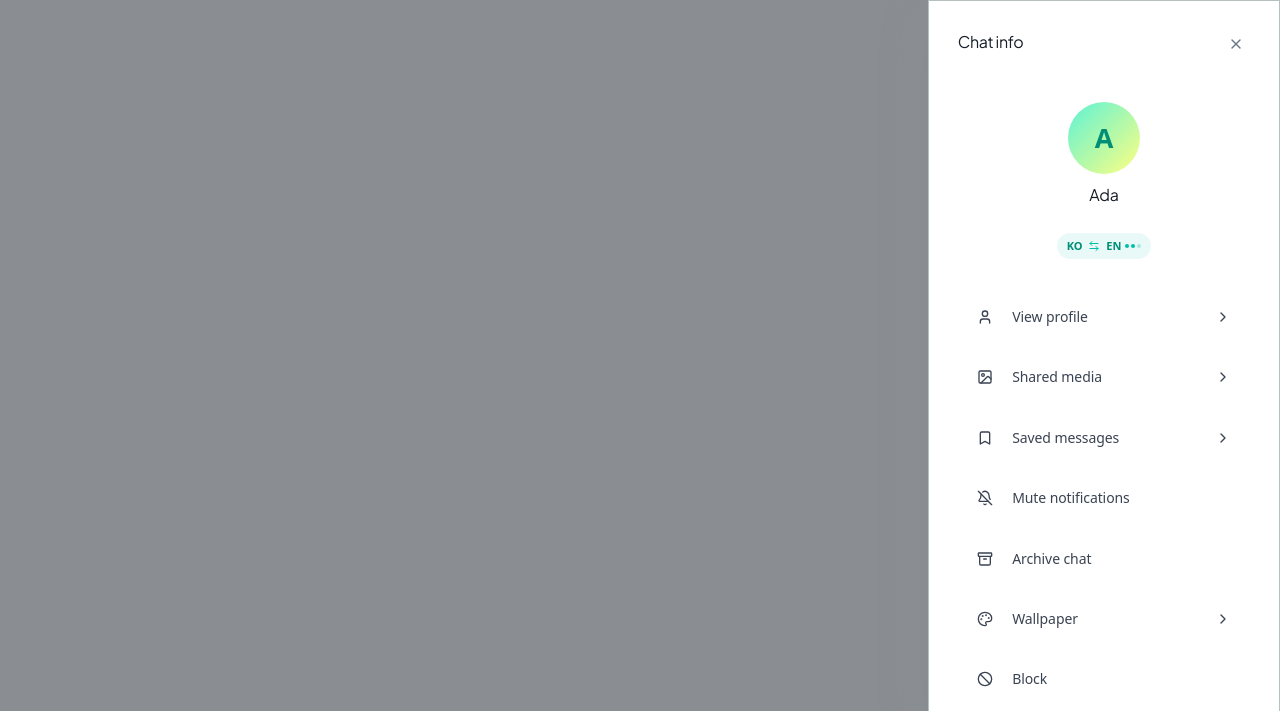
Test: mute › asks how long, then mutes the conversation this pair actually has
Click the button with test id "chat-info-mute" at (1104, 498), box [958, 469, 1250, 527]
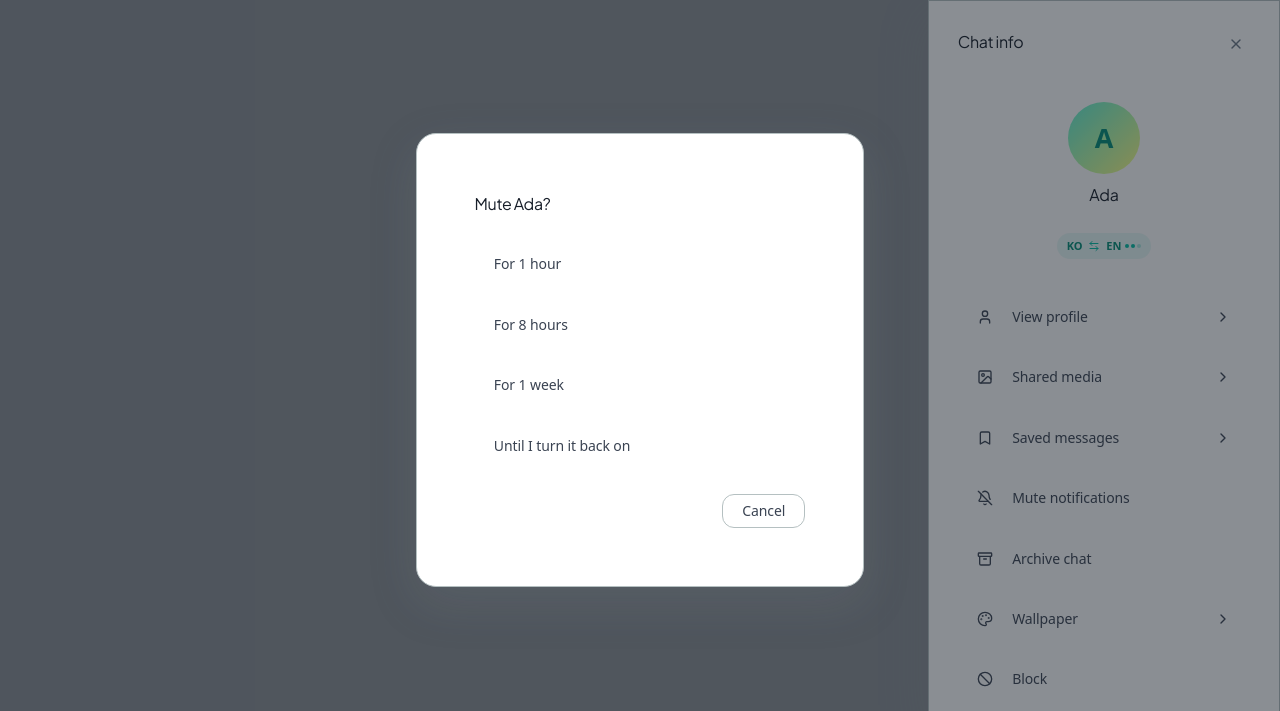
Click the button with test id "mute-option-1h" at (527, 264), box [475, 235, 805, 294]
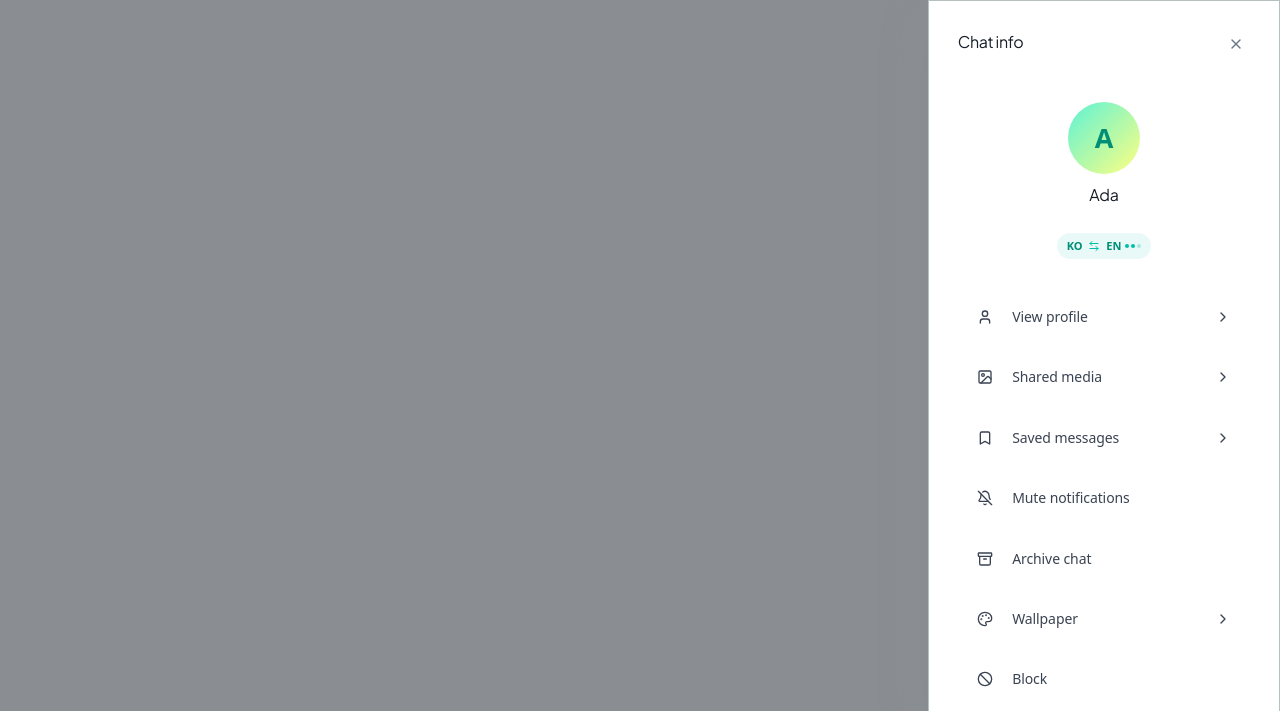
Check: the button with test id "mute-option-1h" is gone
